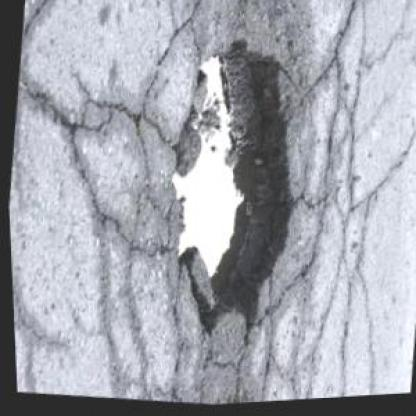pothole: (138, 31, 324, 352)
